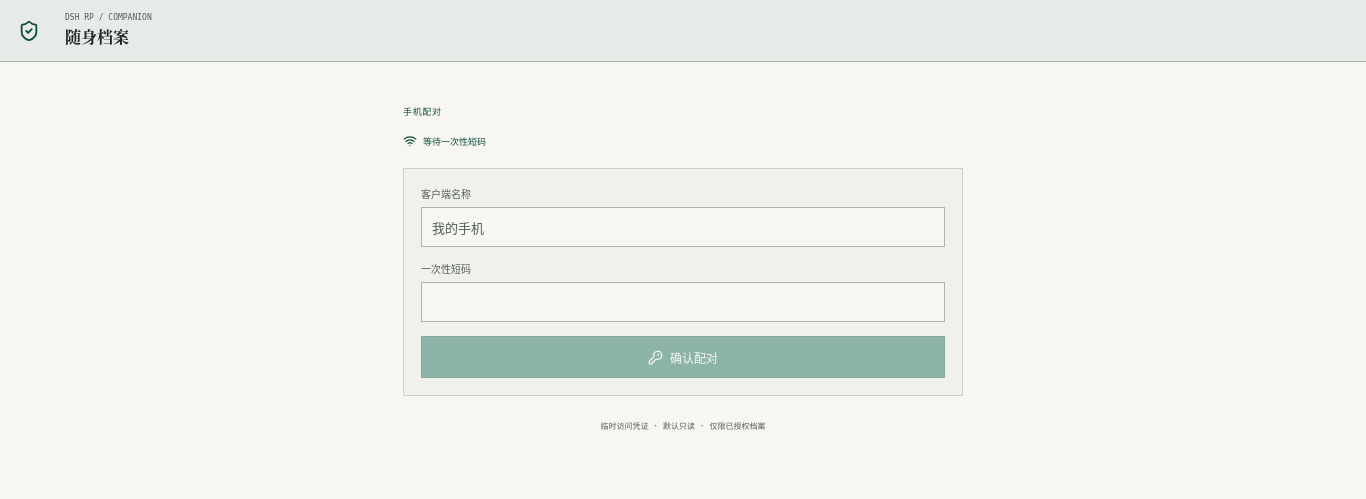
companion session isolation › removes authenticated content and stops work after stream revocation
Later steps or results of the test are not shown.
In the field named "一次性配对短码": (683, 302) x1=421 y1=282 x2=945 y2=322, type "one-time-code-123456789"
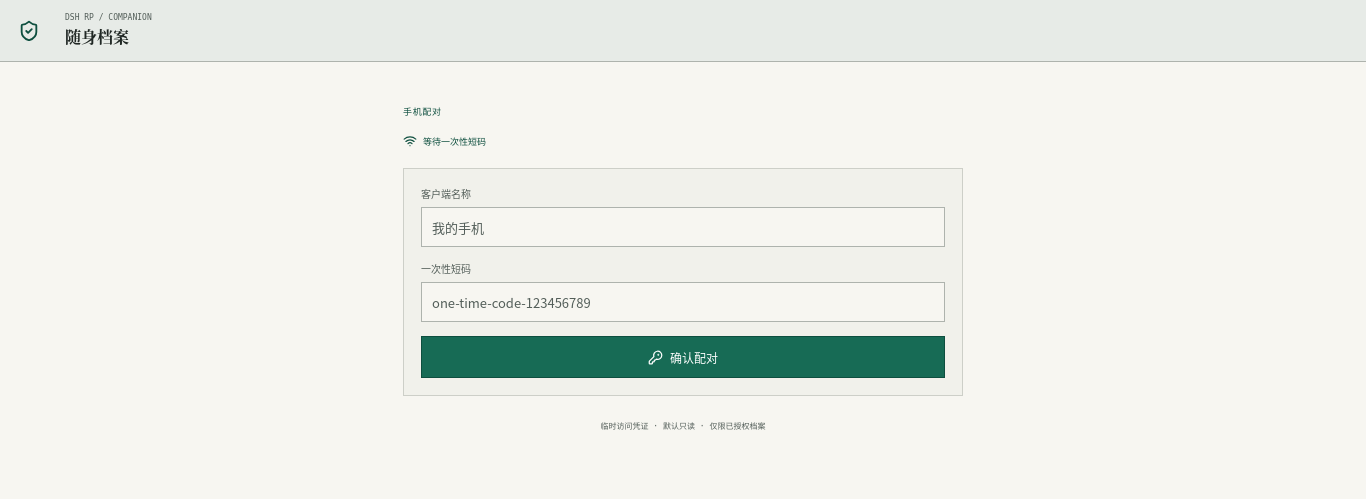
Click the button "确认配对": (683, 357) x1=421 y1=336 x2=945 y2=378
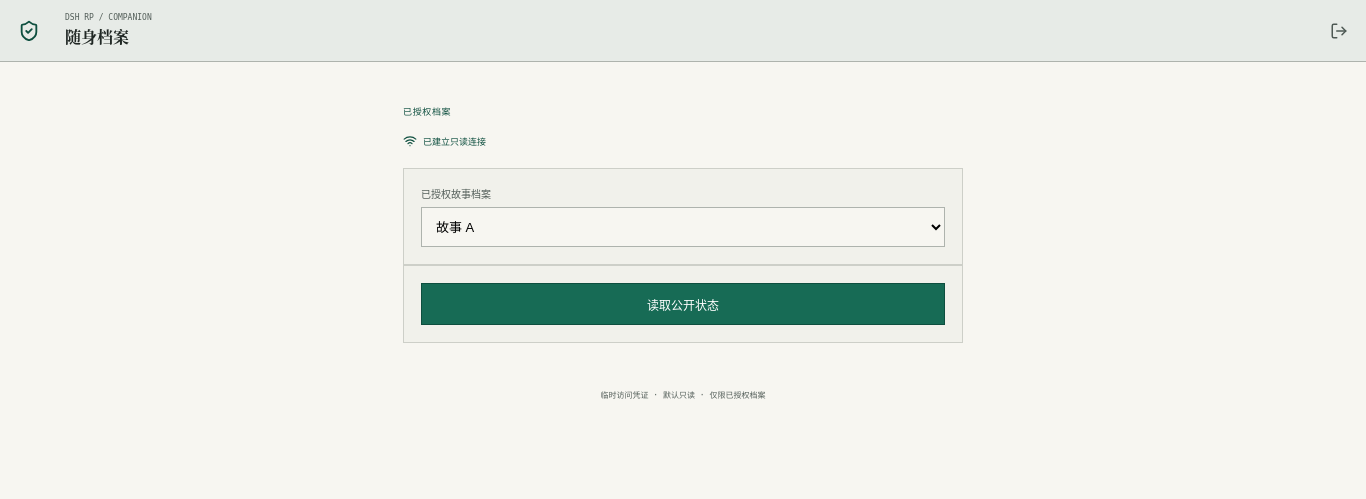
Expected: the dropdown labelled "已授权故事档案" is shown, x1=421 y1=207 x2=945 y2=247
Click the button "读取公开状态": (683, 304) x1=421 y1=283 x2=945 y2=325
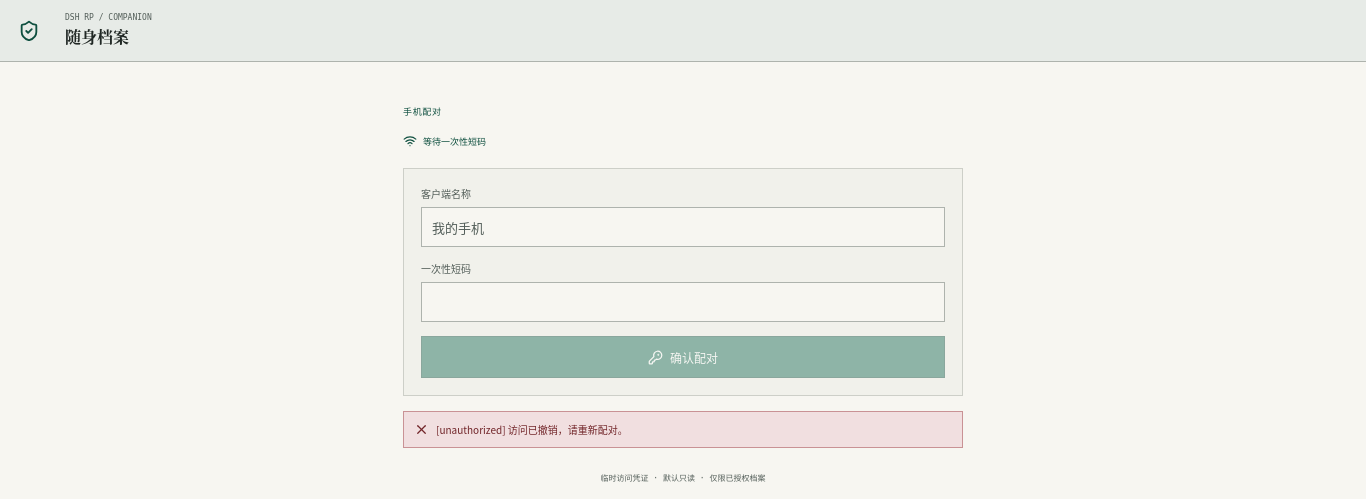
Expected: the button "确认配对" is shown, x1=421 y1=336 x2=945 y2=378
Expected: the message shows "unauthorized", x1=436 y1=422 x2=628 y2=437
Expected: the text labelled "已授权故事档案" is gone
